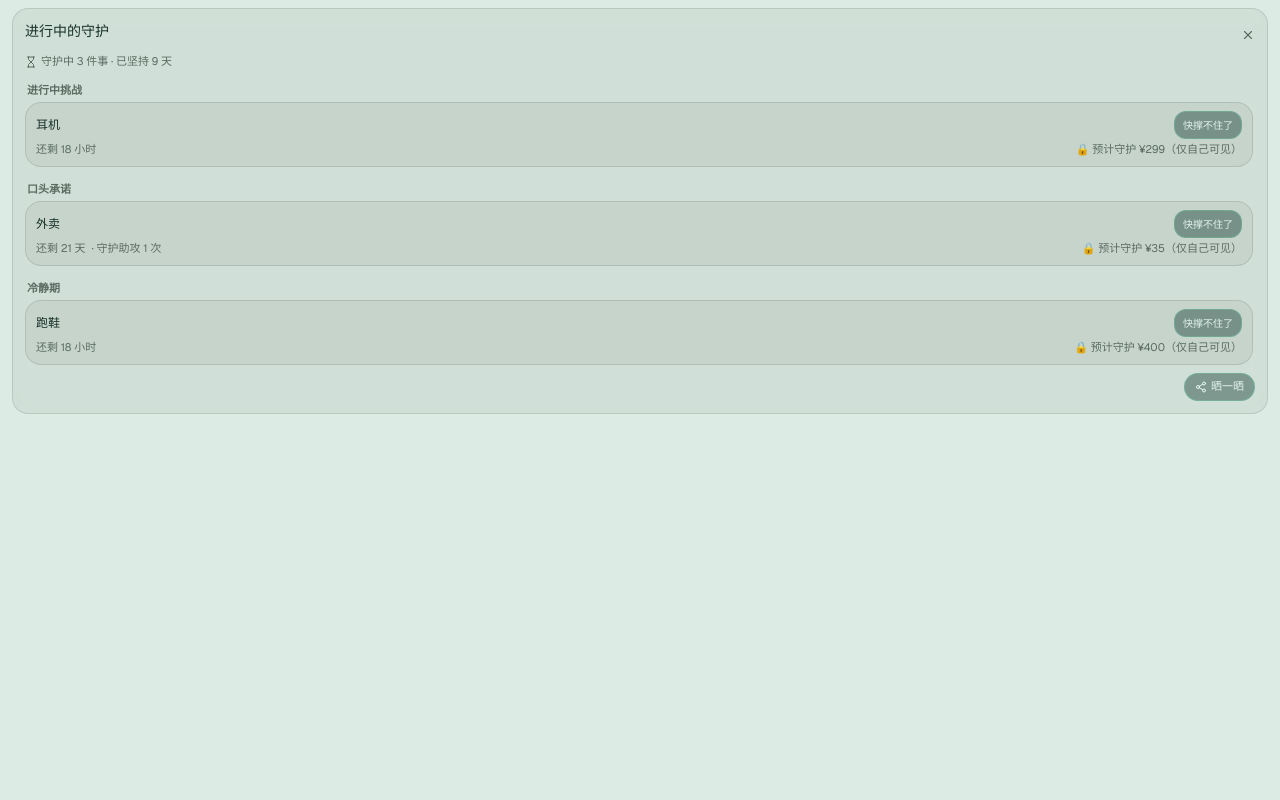
ActiveGuardsPanel › opens and closes the share sheet without leaking private amounts
This screenshot has width=1280, height=800.
Click the button with test id "active-guards-share-btn" at (1220, 386), box [1184,372,1255,400]
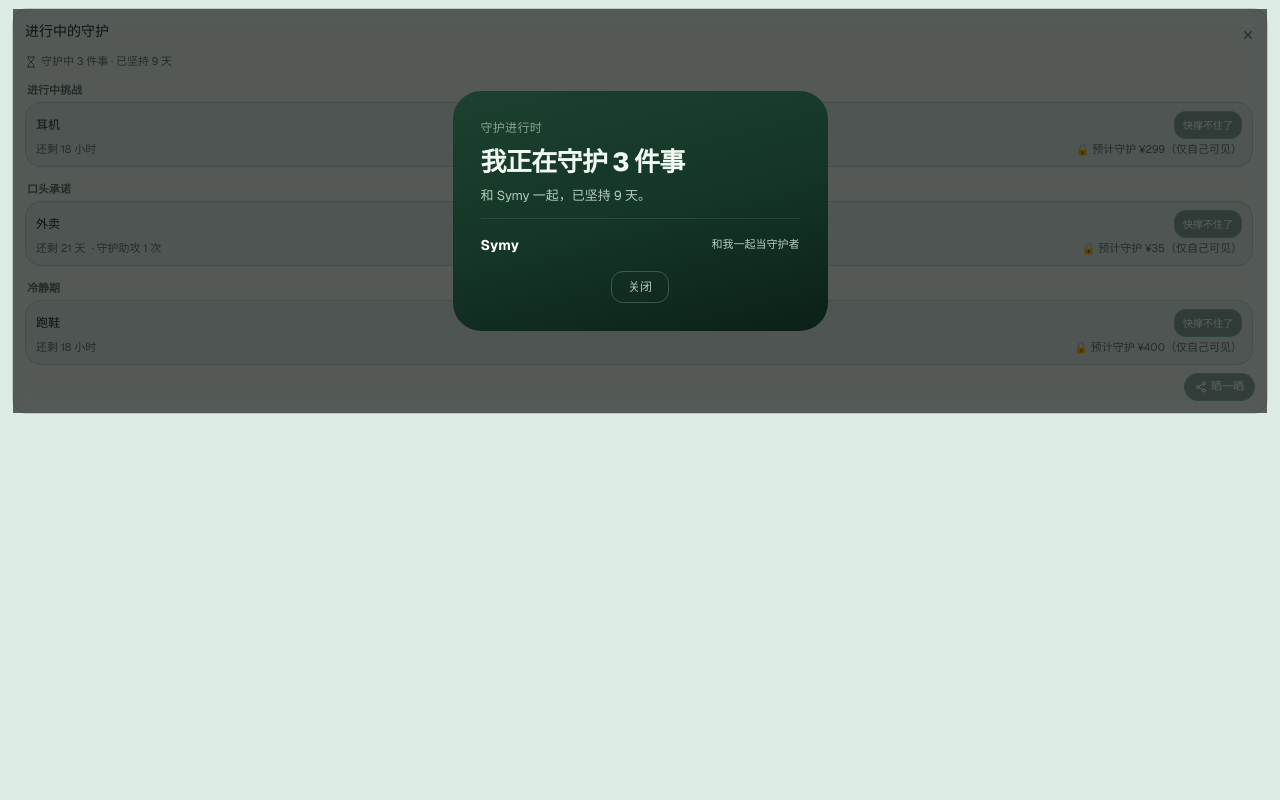
Expected: the element with test id "active-guards-share-face" shows "3", [480,145,685,179]
Click the button "关闭" at (640, 287), box [611,271,669,303]
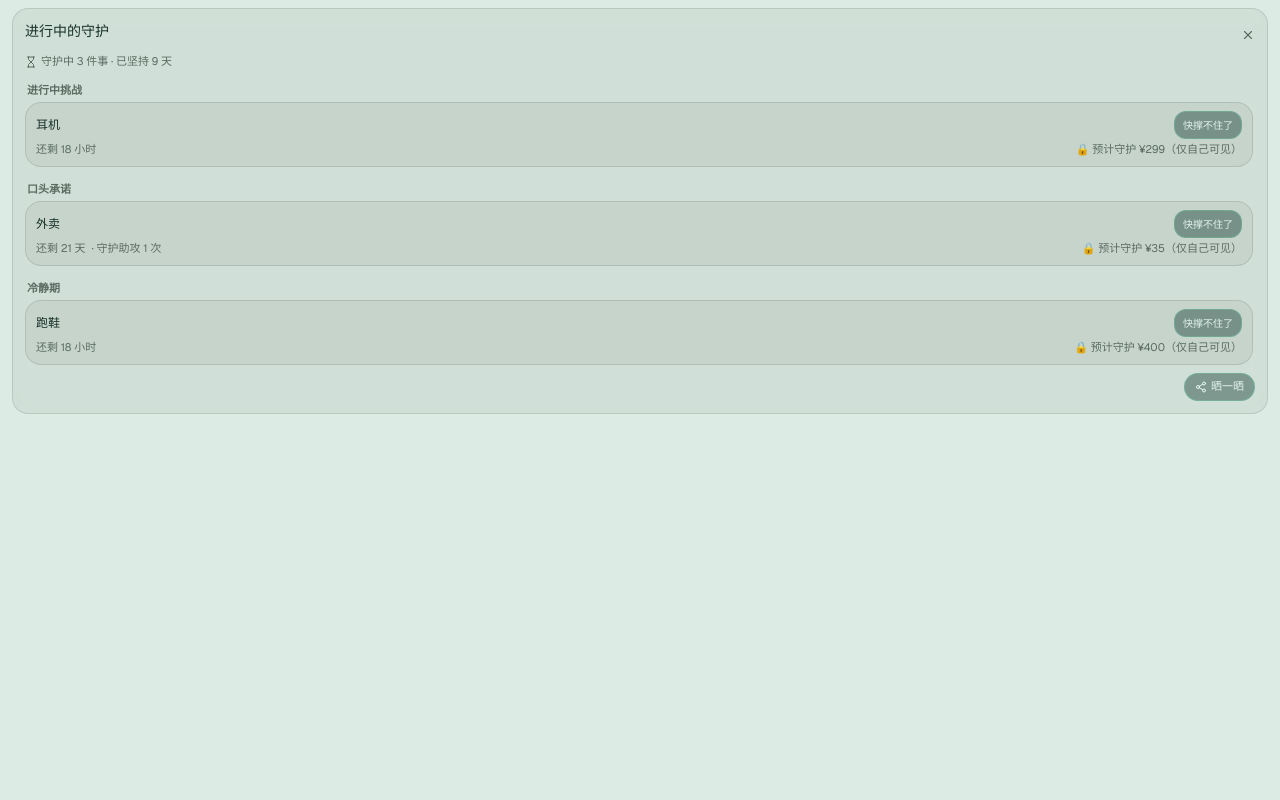
Expected: the dialog with test id "active-guards-share-modal" is gone
